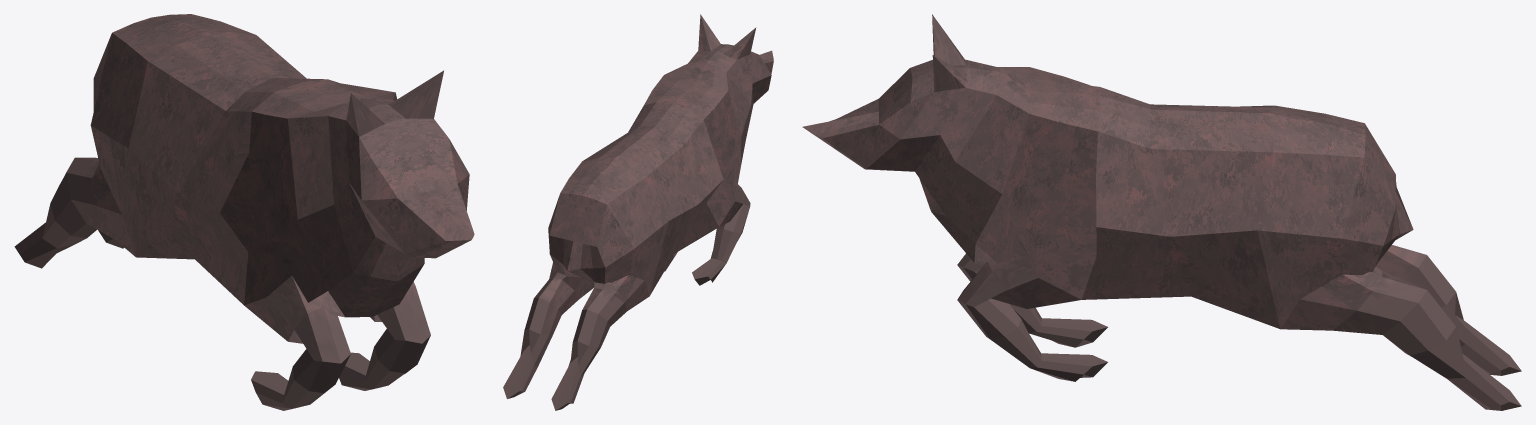
The model's file is piesblendtex_000023.obj.
The picture shows the model from 3 angles, left to right: view 1: azimuth 30°, elevation 25°; view 2: azimuth 150°, elevation 25°; view 3: azimuth 270°, elevation 25°; orthographic projection. The views are drawn at different scales.
Parts seen in each view (by area): view 1: Cube; view 2: Cube; view 3: Cube.
Boxes of the visible parts, x1,y1,x2,y2 form: Cube: [14, 14, 474, 410]; Cube: [503, 14, 773, 410]; Cube: [802, 14, 1521, 410].
Size of the model in its own units: 2.56 by 6.01 by 10.89.
